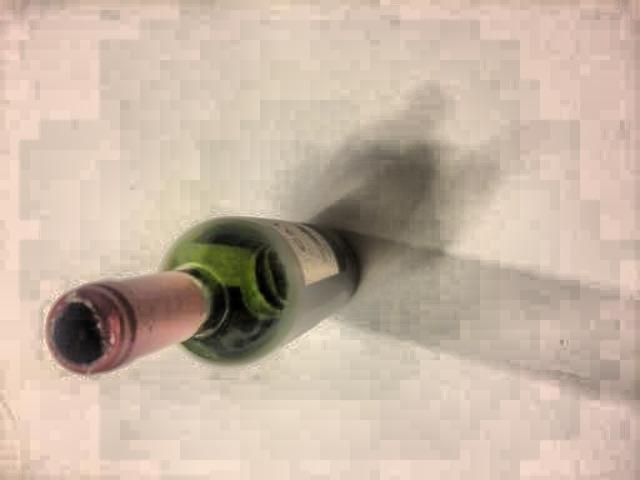Bottles: (37, 201, 388, 391)
